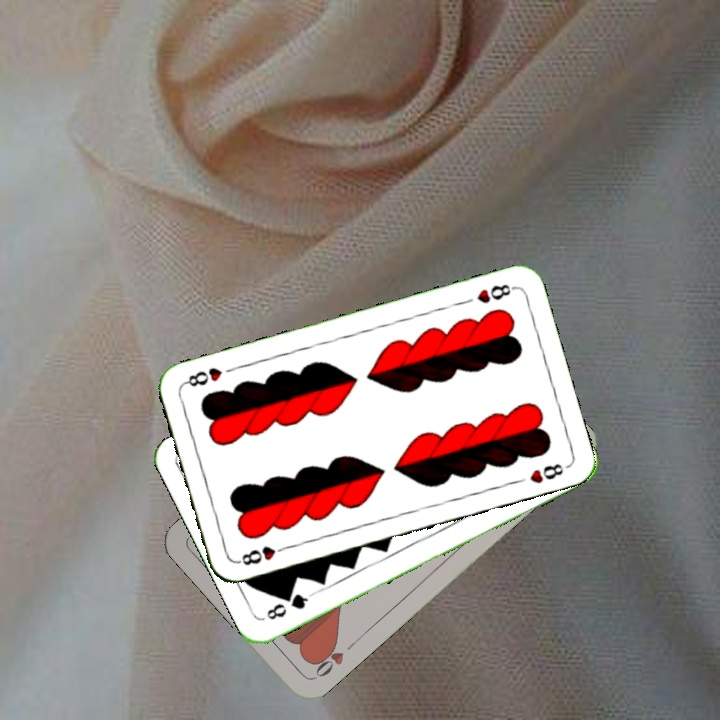G8: (262, 589, 315, 623)
H8: (233, 541, 291, 568), (472, 280, 518, 306)
HO: (308, 637, 358, 682)
